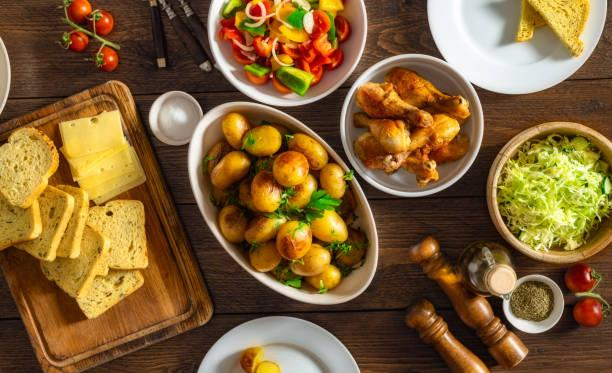Braised Crucian Carp: (341, 53, 482, 196), (486, 122, 609, 263), (207, 1, 366, 107)
